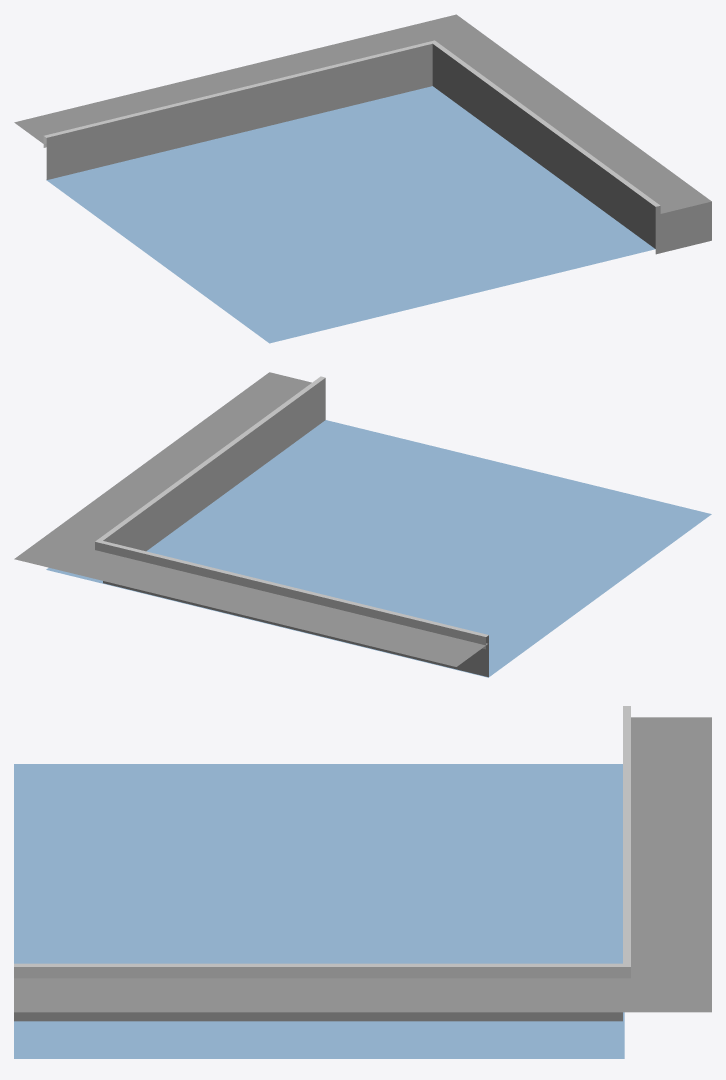
File: road_tile_river_2x2_011.glb
The picture shows the model from 3 angles, top to bottom: view 1: azimuth 30°, elevation 25°; view 2: azimuth 150°, elevation 25°; view 3: azimuth 270°, elevation 25°; orthographic projection. The views are drawn at different scales.
Parts seen in each view (by area): view 1: road_tile_river_2x2_011; view 2: road_tile_river_2x2_011; view 3: road_tile_river_2x2_011.
Part boxes in pixels (bbox=[...]): road_tile_river_2x2_011: bbox=[14, 14, 711, 343]; road_tile_river_2x2_011: bbox=[14, 372, 711, 677]; road_tile_river_2x2_011: bbox=[14, 706, 711, 1058].
Size of the model in its own units: 16 by 1.64 by 16.
Materials: 1 (1 with a texture image).
